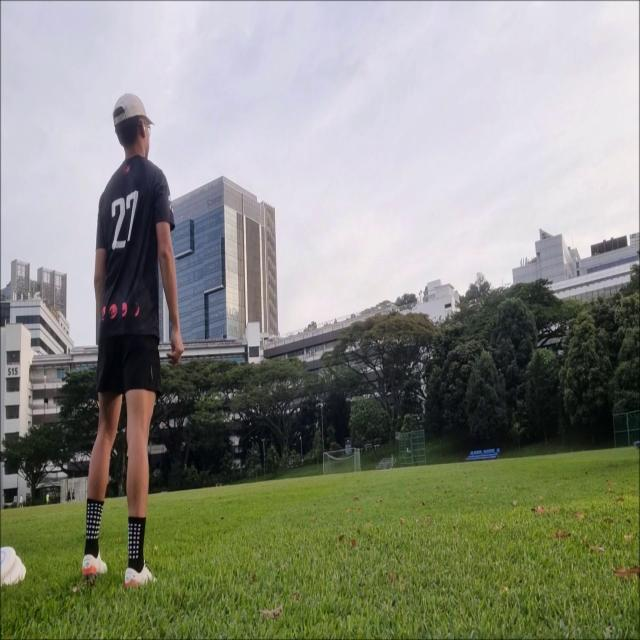disc: (504, 282, 511, 286)
